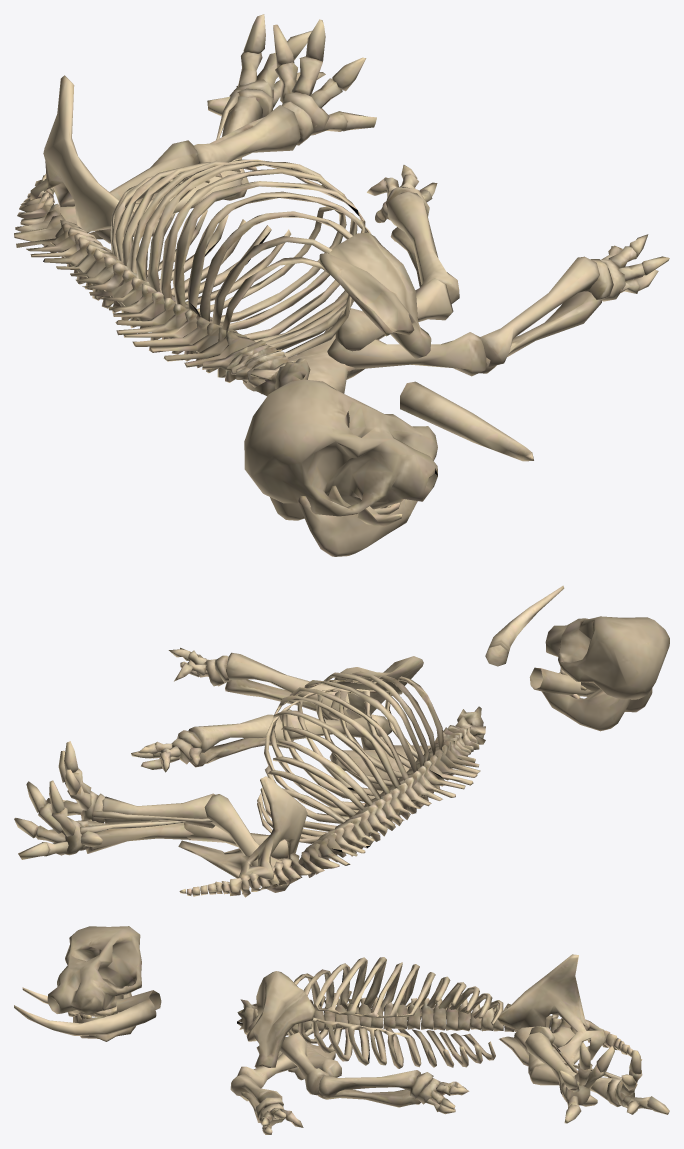
Rendered from elephant_bones_b.glb.
3 renders of one model, top to bottom at view 1: azimuth 30°, elevation 25°; view 2: azimuth 150°, elevation 25°; view 3: azimuth 270°, elevation 25°, orthographic. The views are drawn at different scales.
Visible parts, largest first — view 1: PM3D_Sphere3D1_9.002; view 2: PM3D_Sphere3D1_9.002; view 3: PM3D_Sphere3D1_9.002.
Part boxes in pixels (x1,y1,x2,y2): PM3D_Sphere3D1_9.002: (14,14,669,556); PM3D_Sphere3D1_9.002: (14,585,669,897); PM3D_Sphere3D1_9.002: (14,926,669,1134).
Size of the model in its own units: 3.76 by 1.14 by 6.2.
1 material, 1 textured.
